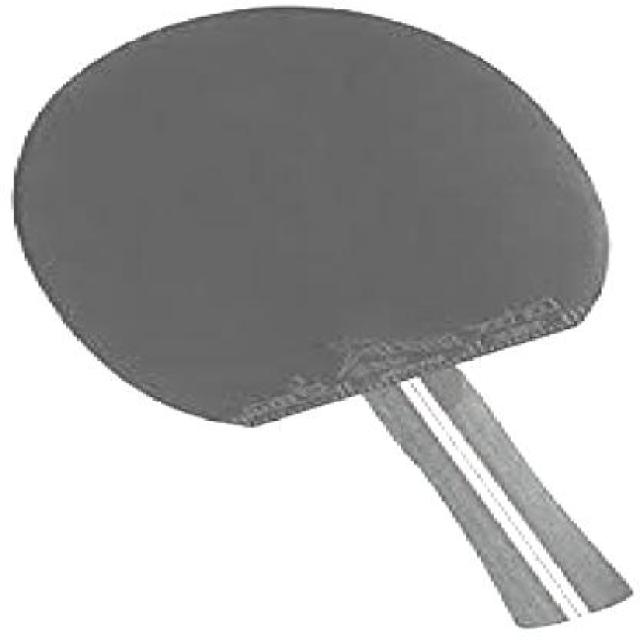table_tennis_racket: (3, 0, 612, 437)
